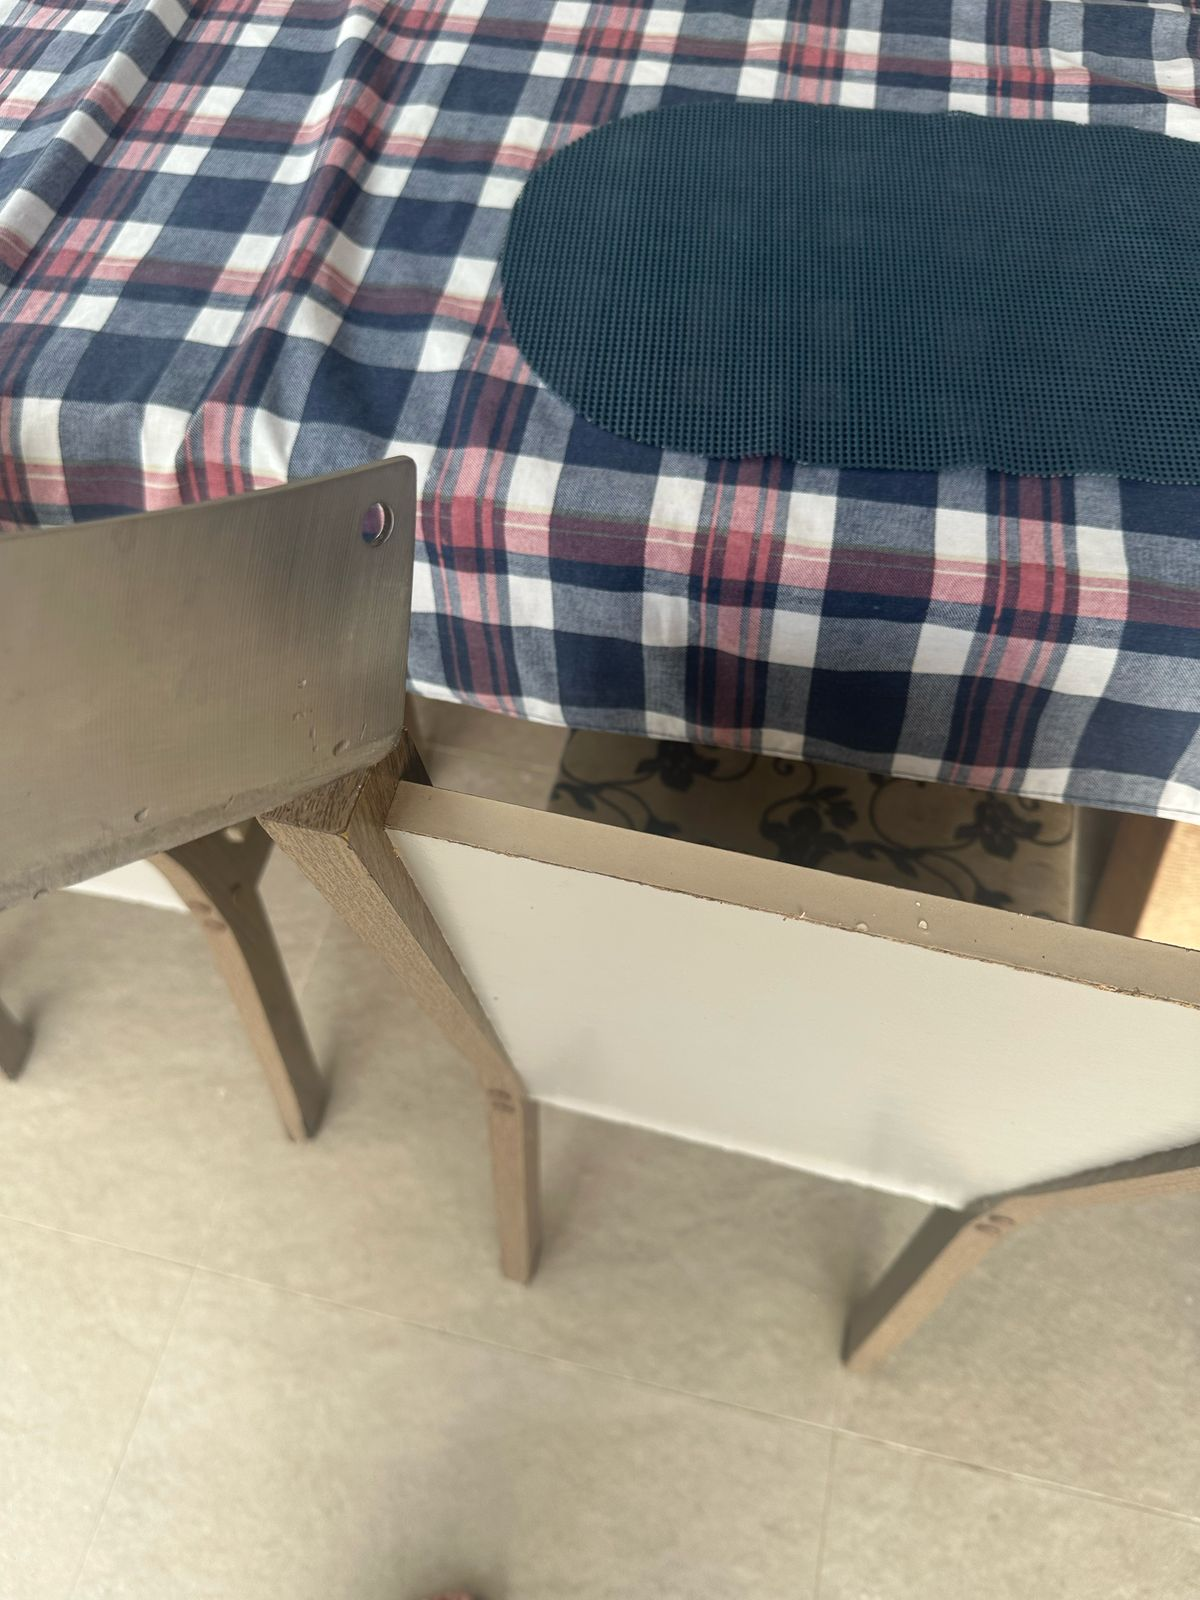faca: (8, 442, 446, 907)
